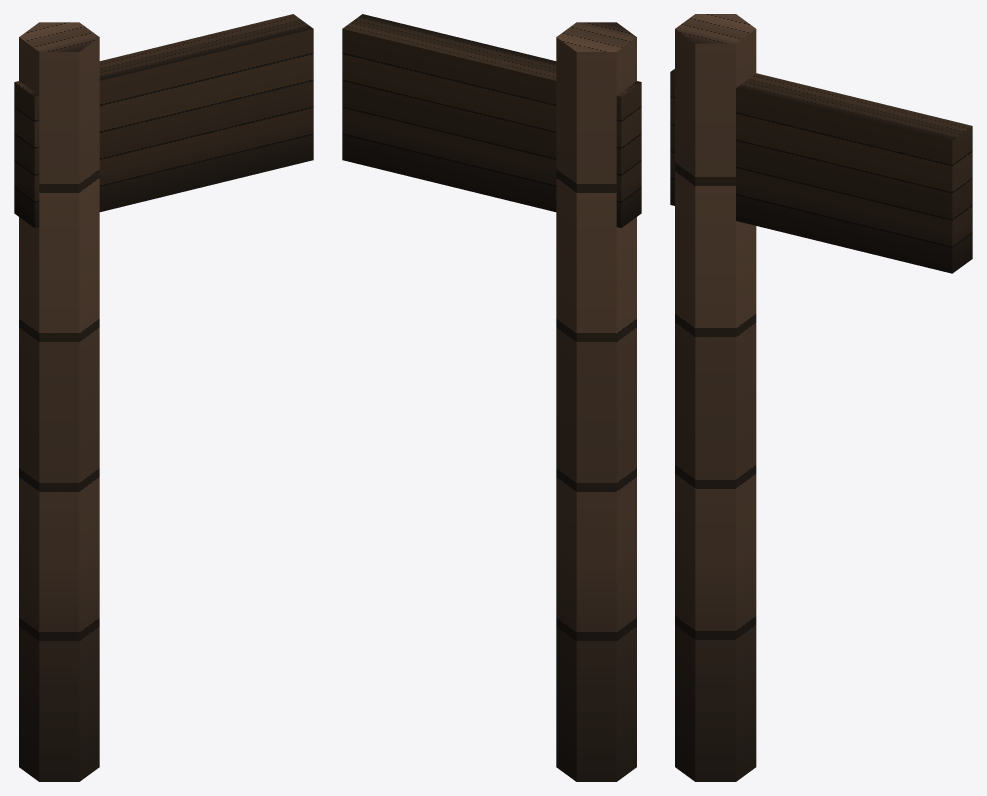
Rendered from signpost.glb.
3 renders of one model, left to right at view 1: azimuth 30°, elevation 25°; view 2: azimuth 150°, elevation 25°; view 3: azimuth 330°, elevation 25°, orthographic.
Visible parts, largest first — view 1: signpost; view 2: signpost; view 3: signpost.
Boxes of the visible parts, x1,y1,x2,y2 form: signpost: (14, 14, 313, 781); signpost: (342, 14, 641, 781); signpost: (670, 14, 972, 781).
Bounding box in the file's own units: 0.4 × 1 × 0.1.
Materials: 1 (1 with a texture image).
